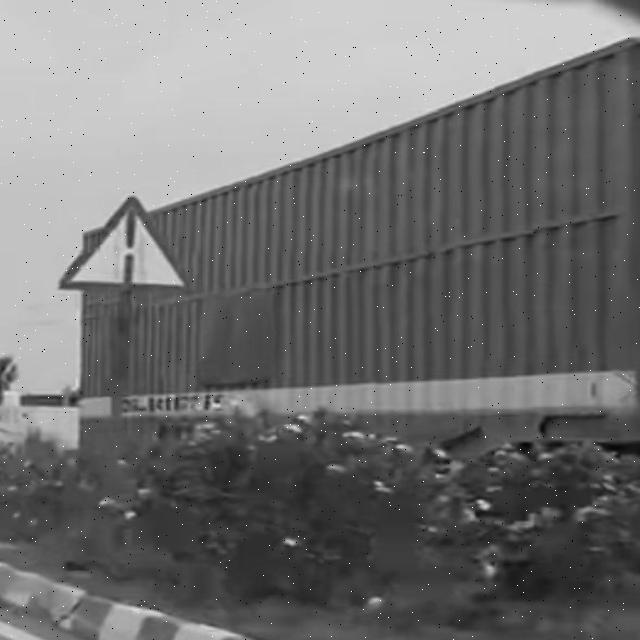gap_in_median: (66, 186, 196, 309)
